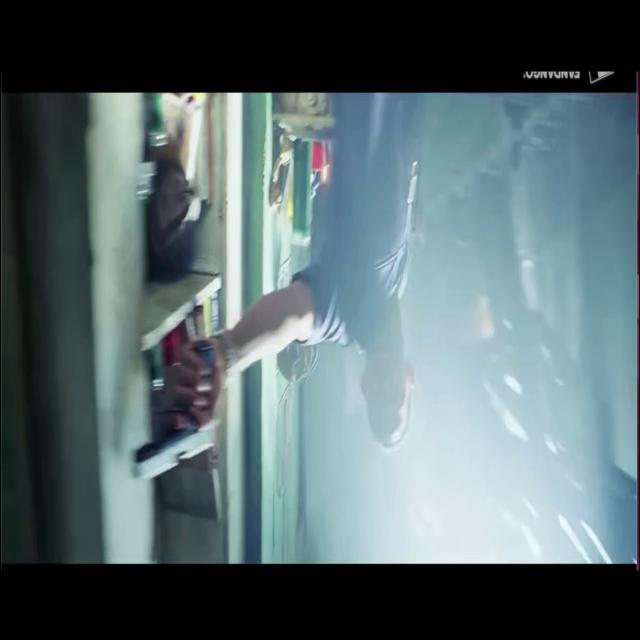weapons: (120, 327, 228, 490)
